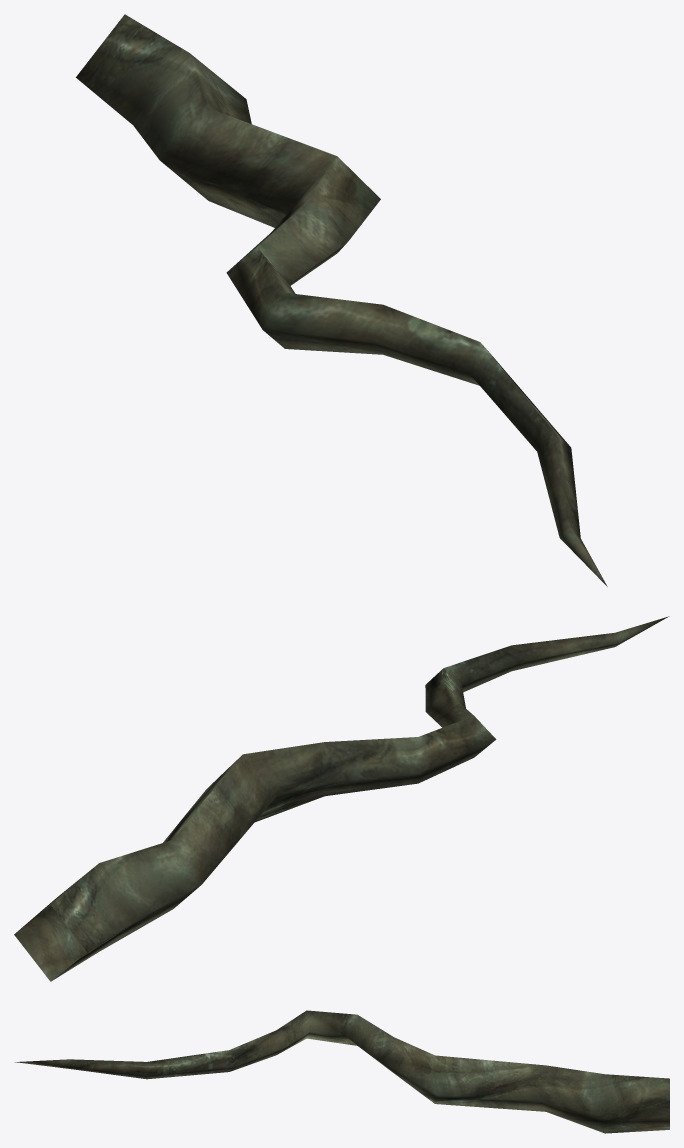
The model's file is Roots_el1.fbx.
3 views of the same model, one above another, from view 1: azimuth 30°, elevation 25°; view 2: azimuth 150°, elevation 25°; view 3: azimuth 270°, elevation 25° (orthographic). The views are drawn at different scales.
Parts seen in each view (by area): view 1: polySurface3113; view 2: polySurface3113; view 3: polySurface3113.
Boxes of the visible parts, bbox=[...] form: polySurface3113: bbox=[76, 14, 607, 586]; polySurface3113: bbox=[14, 616, 669, 981]; polySurface3113: bbox=[14, 1010, 669, 1133].
Bounding box in the file's own units: 0.9055 × 0.4542 × 3.6.
